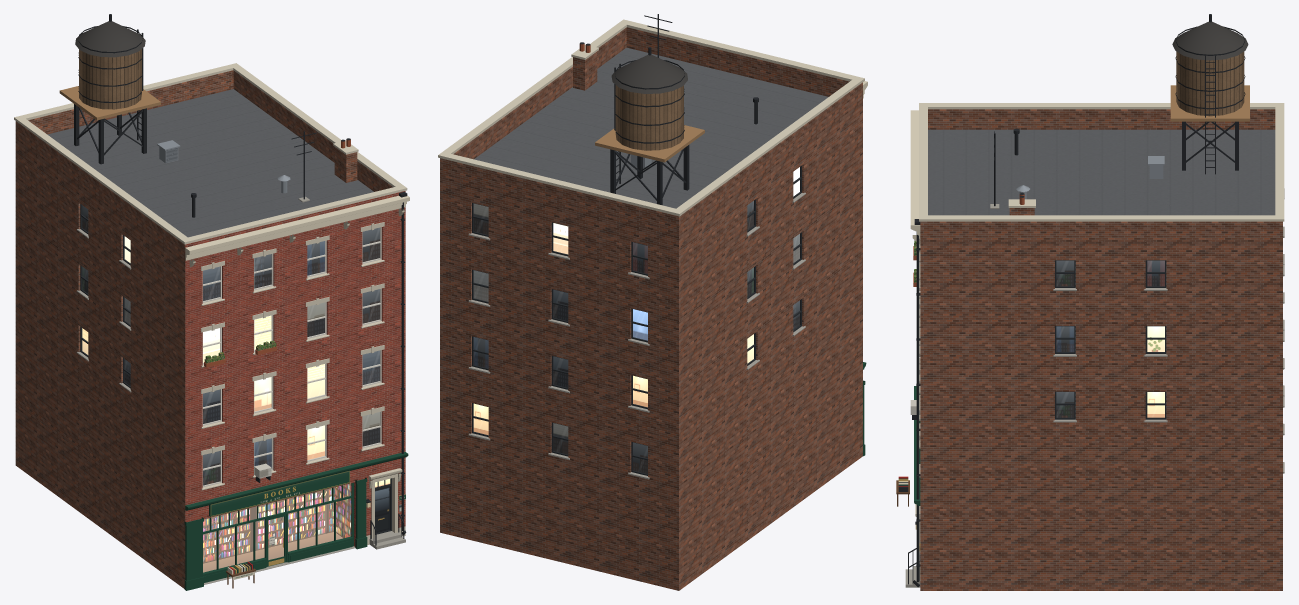
File: Books.fbx
3 views of the same model, side by side, from view 1: azimuth 30°, elevation 25°; view 2: azimuth 150°, elevation 25°; view 3: azimuth 270°, elevation 25° (orthographic). The views are drawn at different scales.
Visible parts, largest first — view 1: Books_Mesh; view 2: Books_Mesh; view 3: Books_Mesh.
Part boxes in pixels (bbox=[...]): Books_Mesh: bbox=[14, 14, 409, 590]; Books_Mesh: bbox=[438, 14, 867, 590]; Books_Mesh: bbox=[896, 14, 1284, 590].
Bounding box in the file's own units: 12.14 × 24 × 17.12.
